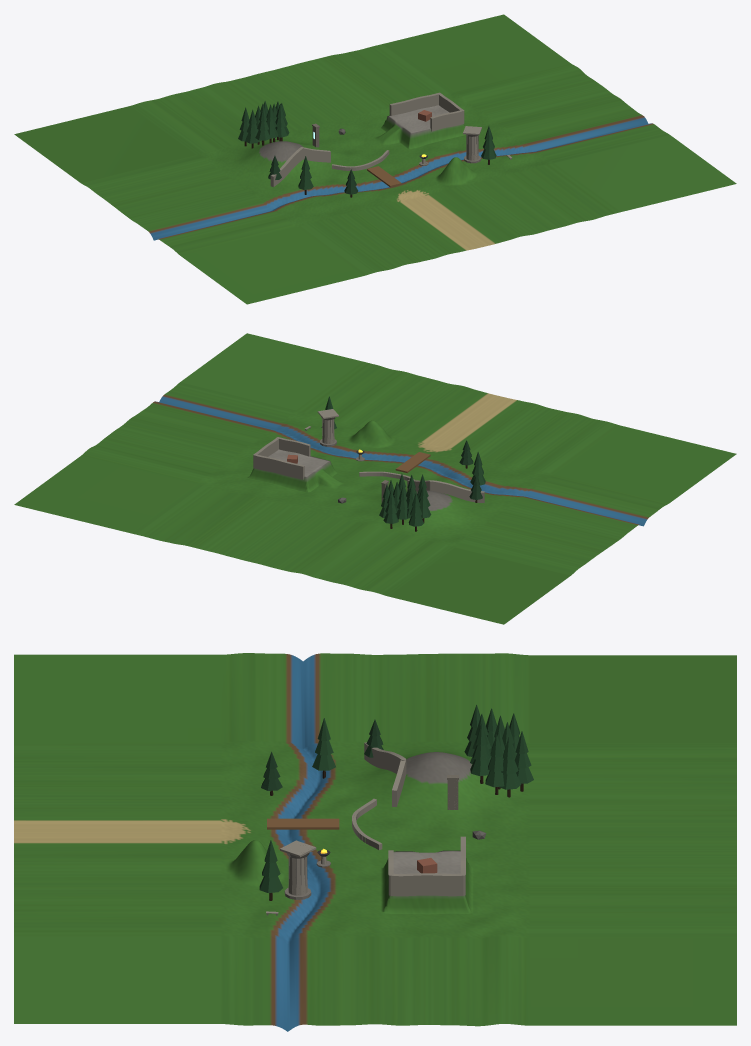
The model's file is demo-builder.glb.
3 views of the same model, one above another, from view 1: azimuth 30°, elevation 25°; view 2: azimuth 150°, elevation 25°; view 3: azimuth 270°, elevation 25° (orthographic). The views are drawn at different scales.
Visible parts, largest first — view 1: ground, mb_static_0, castle_column_0; view 2: ground, mb_static_0, castle_column_0; view 3: ground, forest_tree (×6), mb_static_0, castle_column_0, mb_static_1.
Part boxes in pixels (bbox=[...]): ground: bbox=[14, 14, 736, 304]; mb_static_0: bbox=[270, 92, 464, 186]; castle_column_0: bbox=[463, 126, 481, 163]; ground: bbox=[14, 333, 736, 624]; mb_static_0: bbox=[253, 437, 484, 502]; castle_column_0: bbox=[317, 409, 338, 446]; ground: bbox=[14, 653, 736, 1031]; forest_tree (×6): bbox=[259, 718, 533, 900]; mb_static_0: bbox=[364, 742, 465, 896]; castle_column_0: bbox=[280, 840, 316, 899]; mb_static_1: bbox=[267, 818, 339, 829].
Size of the model in its own units: 170 by 17.63 by 140.
6 materials, 2 textured.
